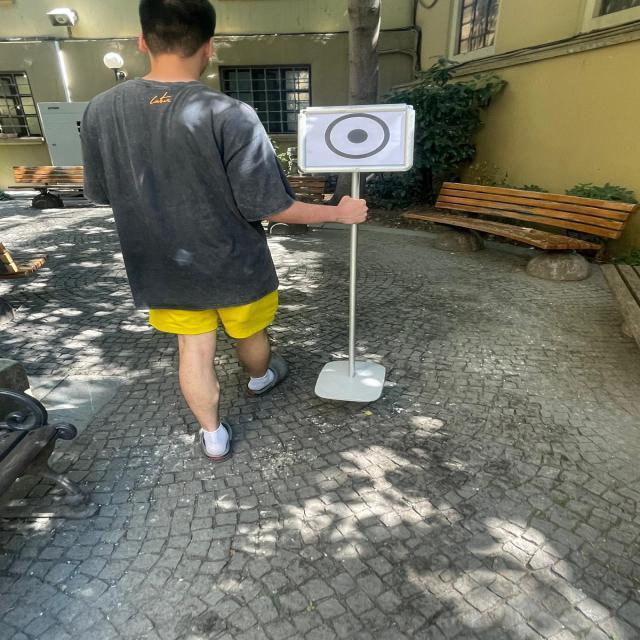Target: (282, 85, 430, 188)
inner: (343, 121, 373, 151)
